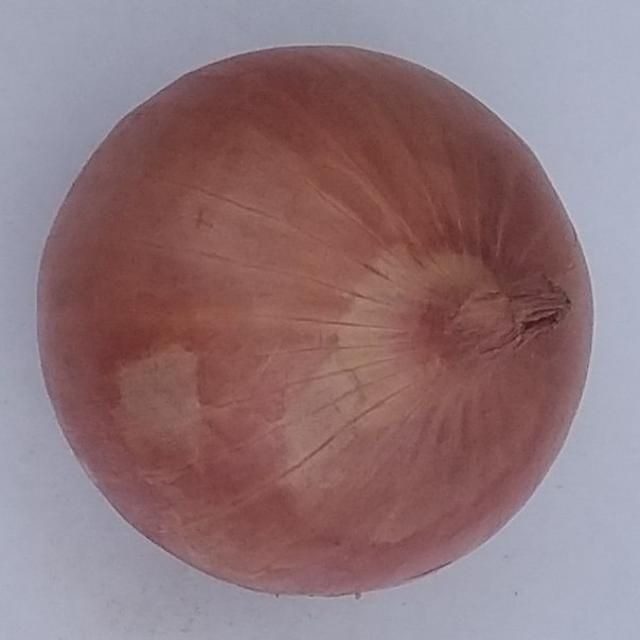onion: (31, 39, 598, 601)
